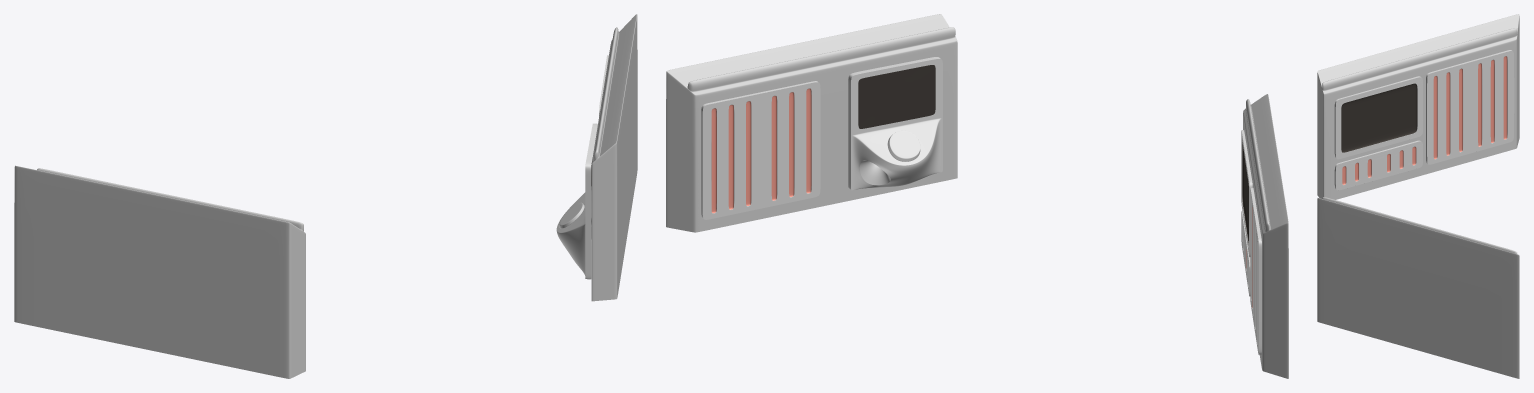
Rendered from Moonbase_Control_Room_Wall_Sides.fbx.
The picture shows the model from 3 angles, left to right: view 1: azimuth 30°, elevation 25°; view 2: azimuth 150°, elevation 25°; view 3: azimuth 270°, elevation 25°; orthographic projection. The views are drawn at different scales.
Visible parts, largest first — view 1: Plane.009; view 2: Plane.009; view 3: Plane.009.
Part boxes in pixels (x1=…): Plane.009: x1=14, y1=14, x2=637, y2=378; Plane.009: x1=666, y1=14, x2=1288, y2=378; Plane.009: x1=1317, y1=14, x2=1519, y2=378.
Bounding box in the file's own units: 715 × 172 × 253.
